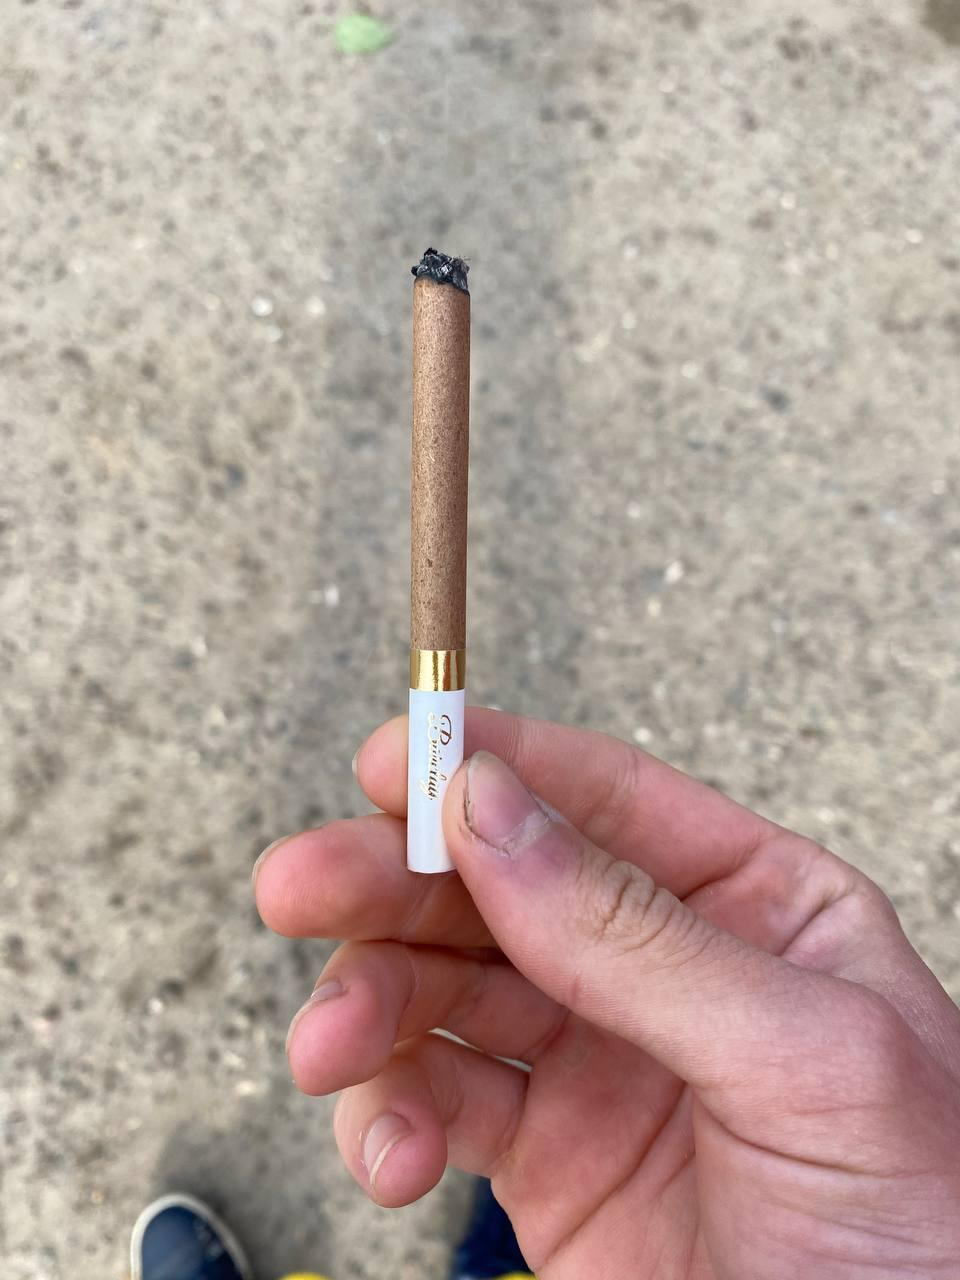cigarette: (407, 250, 470, 873)
